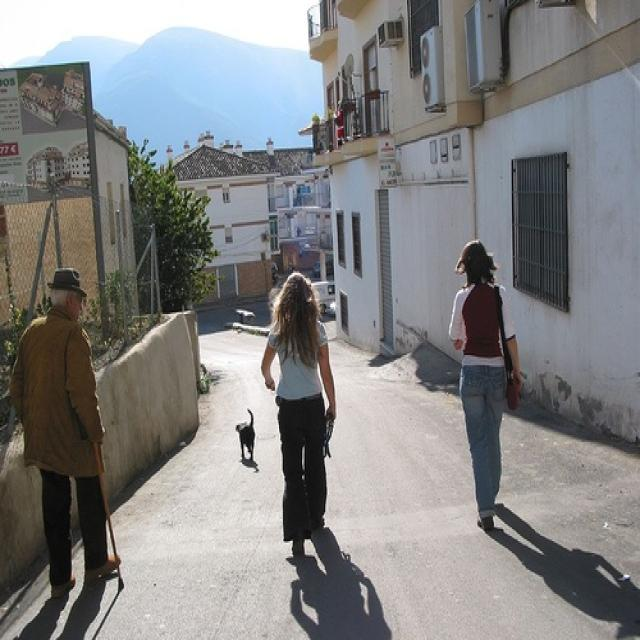dog: (233, 406, 260, 468)
